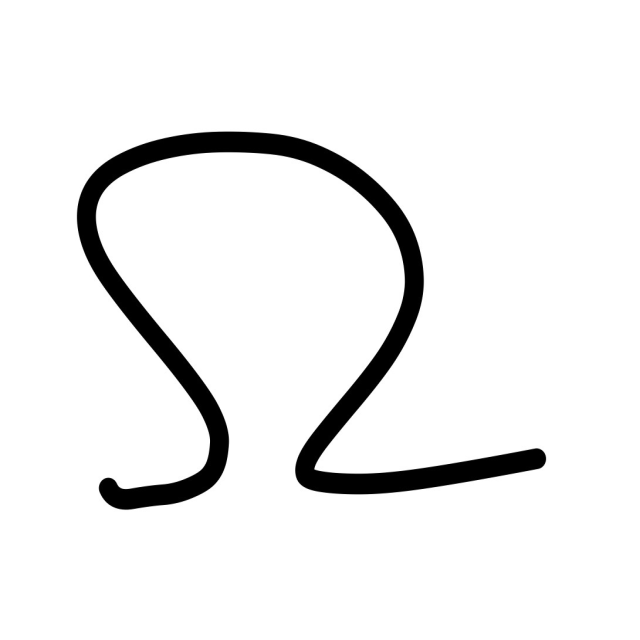ohms: (25, 68, 559, 567)
